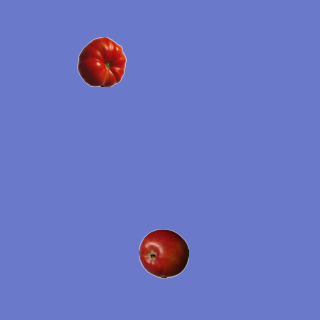Apple Braeburn: (138, 228, 188, 278)
Tomato 3: (76, 36, 126, 86)
